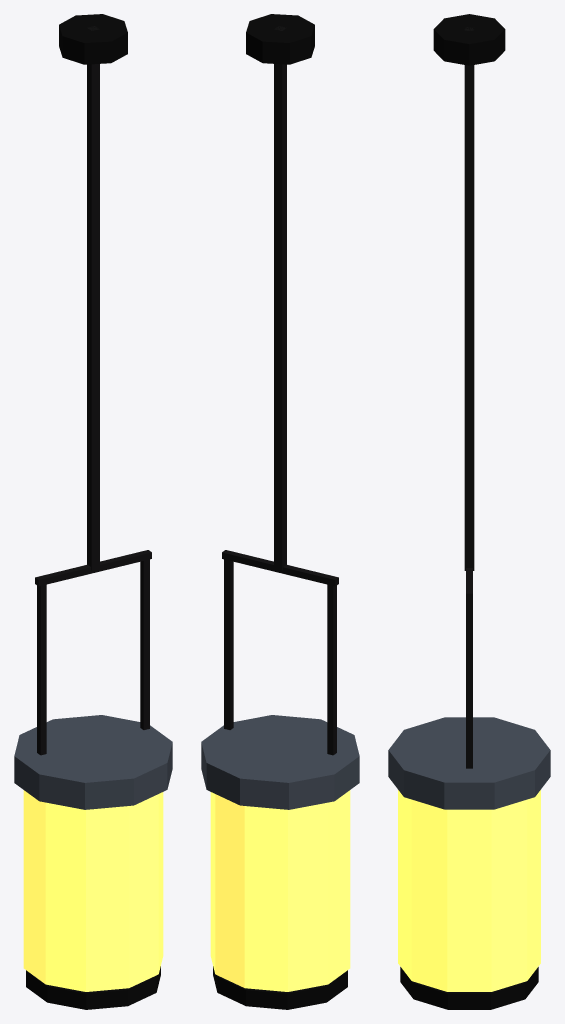
Rendered from SM_HLight_Jar_Lantern.glb.
The picture shows the model from 3 angles, left to right: view 1: azimuth 30°, elevation 25°; view 2: azimuth 150°, elevation 25°; view 3: azimuth 270°, elevation 25°; orthographic projection.
Visible parts, largest first — view 1: SM_HLight_Jar_Lantern; view 2: SM_HLight_Jar_Lantern; view 3: SM_HLight_Jar_Lantern.
Part boxes in pixels (x1,y1,x2,y2): SM_HLight_Jar_Lantern: (14,14,172,1009); SM_HLight_Jar_Lantern: (201,14,359,1009); SM_HLight_Jar_Lantern: (388,14,550,1009).
Bounding box in the file's own units: 0.1293 × 0.8825 × 0.136.
